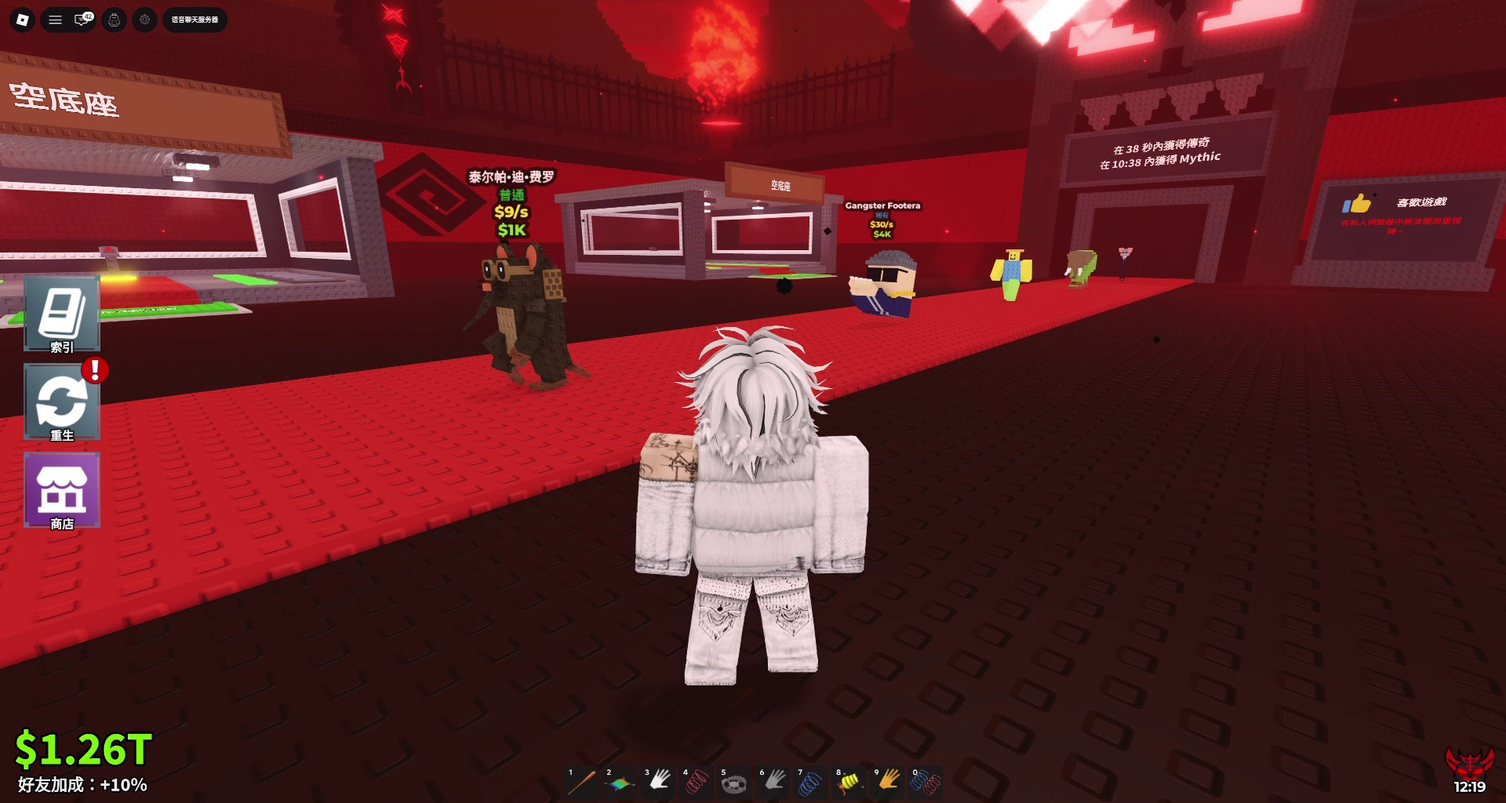price_tag: (743, 205, 778, 229)
